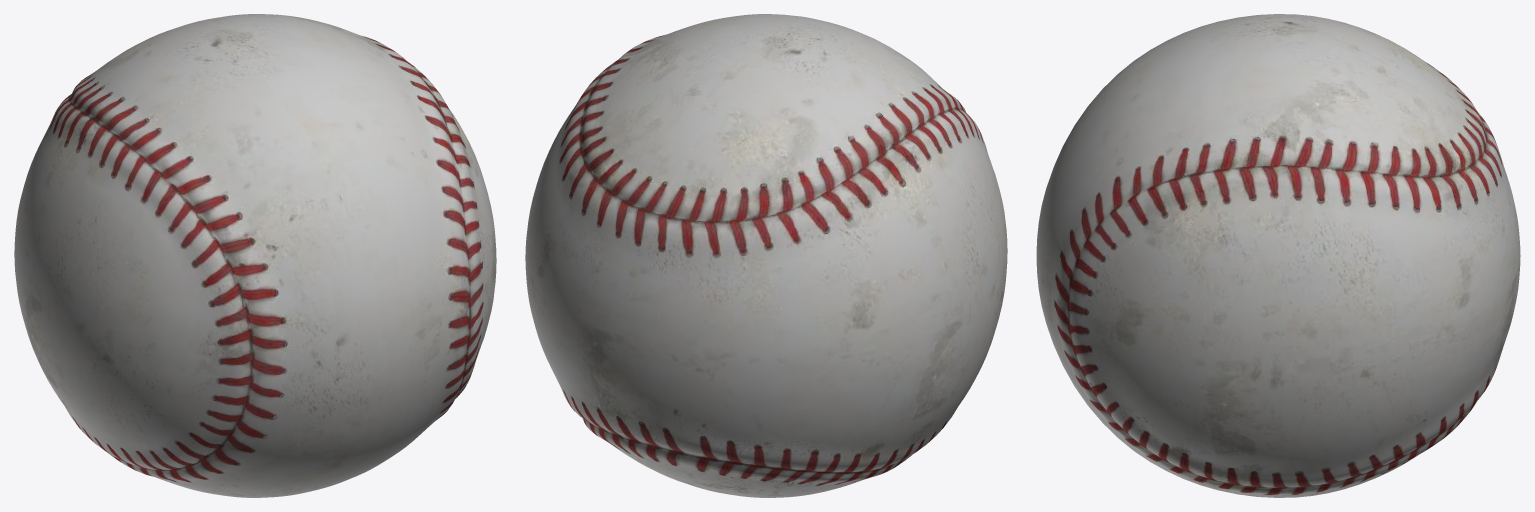
The model's file is baseball.glb.
3 renders of one model, left to right at view 1: azimuth 30°, elevation 25°; view 2: azimuth 150°, elevation 25°; view 3: azimuth 270°, elevation 25°, orthographic.
Parts seen in each view (by area): view 1: baseball_01; view 2: baseball_01; view 3: baseball_01.
Part boxes in pixels (x1,y1,x2,y2): baseball_01: [14, 14, 496, 497]; baseball_01: [525, 14, 1007, 497]; baseball_01: [1036, 14, 1520, 497].
Bounding box in the file's own units: 0.0735 × 0.0753 × 0.0752.
Materials: 1 (1 with a texture image).
